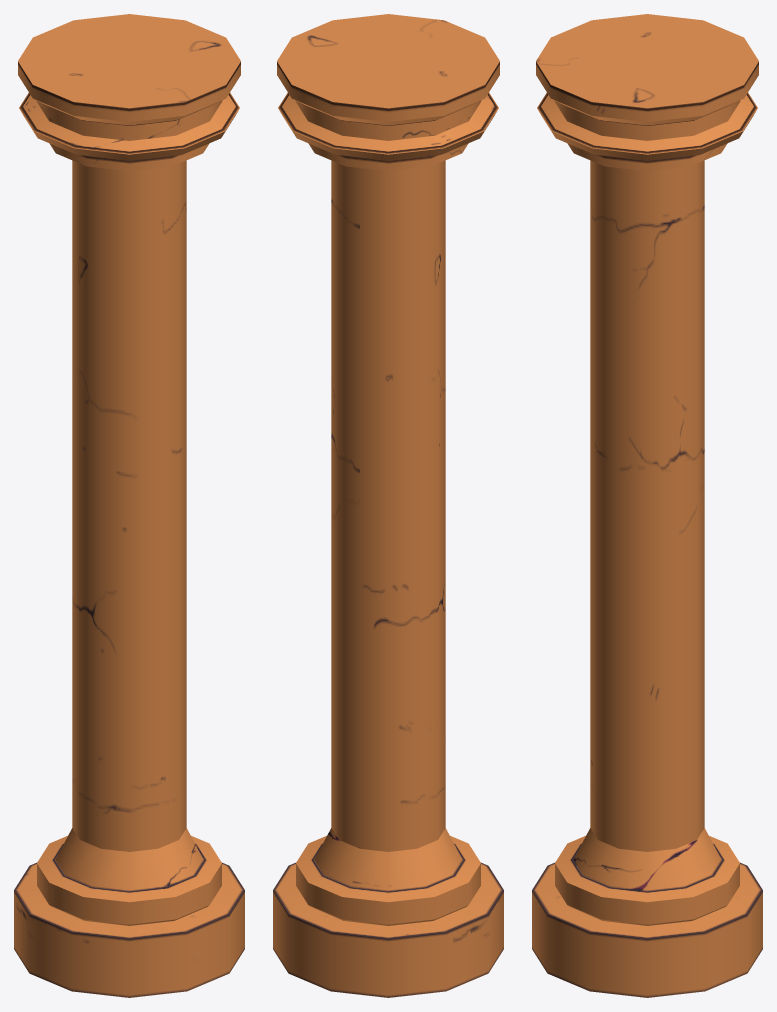
Rendered from Petra_Pillar.fbx.
3 renders of one model, left to right at view 1: azimuth 30°, elevation 25°; view 2: azimuth 150°, elevation 25°; view 3: azimuth 270°, elevation 25°, orthographic.
Visible parts, largest first — view 1: Base_Pillar; view 2: Base_Pillar; view 3: Base_Pillar.
Part boxes in pixels (bbox=[...]): Base_Pillar: bbox=[14, 14, 244, 997]; Base_Pillar: bbox=[273, 14, 503, 997]; Base_Pillar: bbox=[532, 14, 762, 997].
Bounding box in the file's own units: 404 × 404 × 1713.
